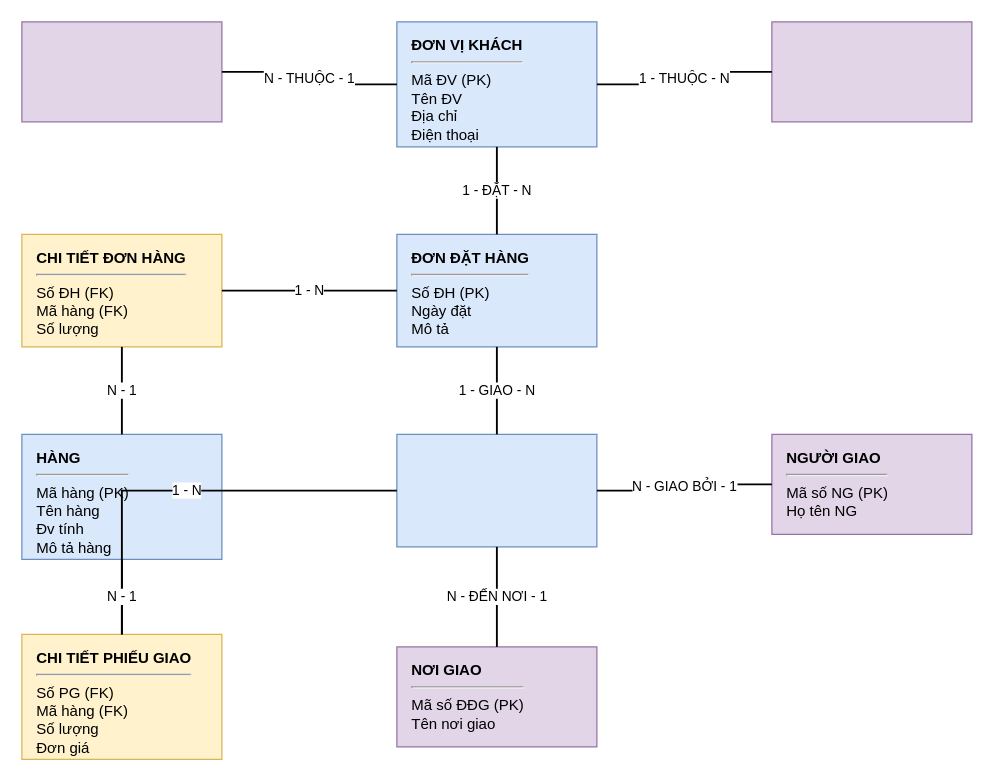
The diagram is 994 pixels wide and 781 high, and some of its shapes have lost their labels. The shapes that lost their labels are listed below. From the top down, each one's centre as x and y in pixels, then its label:
At point (121, 71): "NGƯỜI ĐẶT Mã số NĐ (PK) Họ tên NĐ".
At point (871, 71): "NGƯỜI NHẬN Mã số NN (PK) Họ tên NN".
At point (496, 490): "PHIẾU GIAO HÀNG Số PG (PK) Ngày giao Thành tiền".
